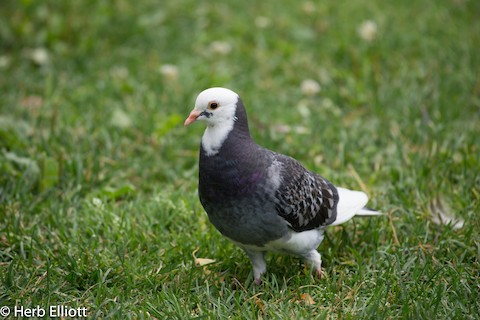pigeon: (182, 83, 386, 287)
